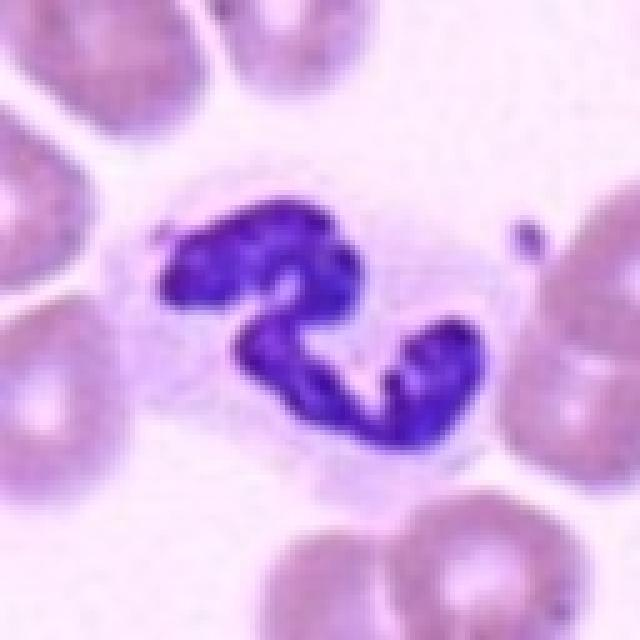neutro: (115, 94, 607, 503)
